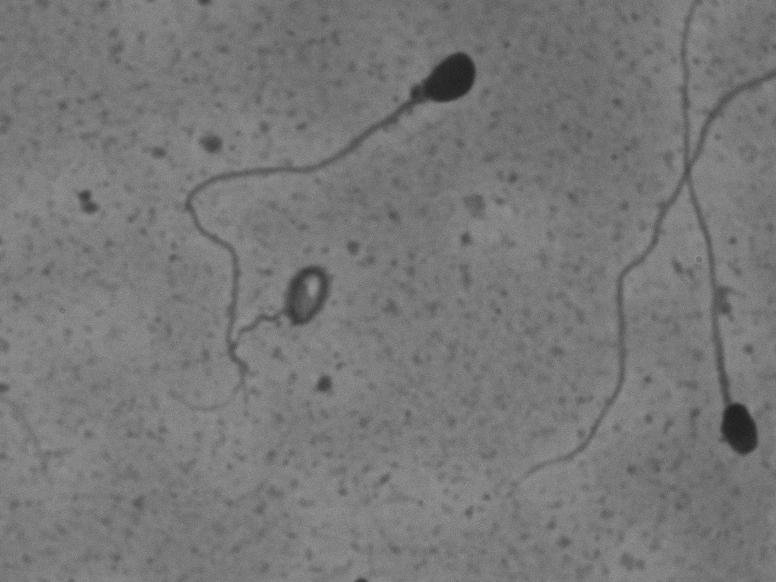Abnormal: (126, 29, 520, 451), (658, 15, 764, 492)
